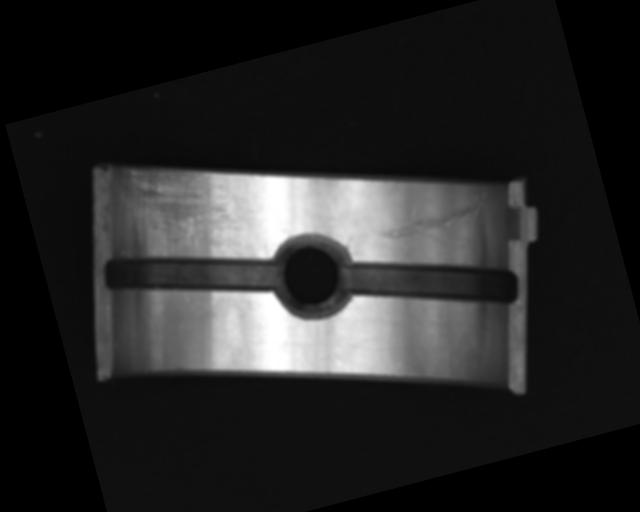gap: (338, 221, 522, 342), (98, 218, 284, 327)
hole: (265, 228, 359, 324)
nick: (374, 186, 500, 262)
scratch: (110, 141, 243, 272)
